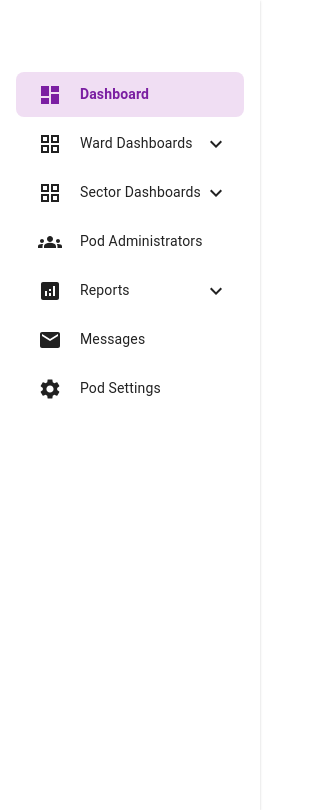
Test case: Sidebar › submenu behavior › should toggle submenu closed when clicking on expanded parent
Click the button "Ward Dashboards" at (133, 144), box top-left (38, 132), bottom-right (228, 156)
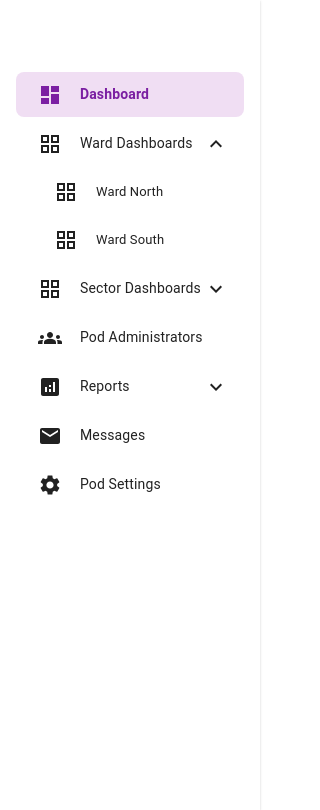
Result: the text "Ward North" is shown at top-left (96, 184), bottom-right (163, 199)
Click the button "Ward Dashboards" at (133, 144), box top-left (38, 132), bottom-right (228, 156)
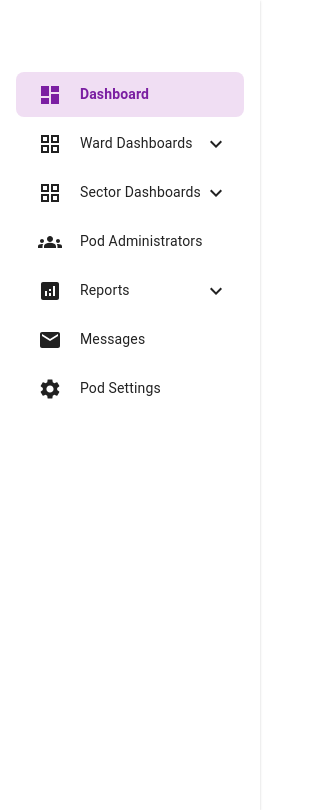
Result: the link "Ward North" is gone
